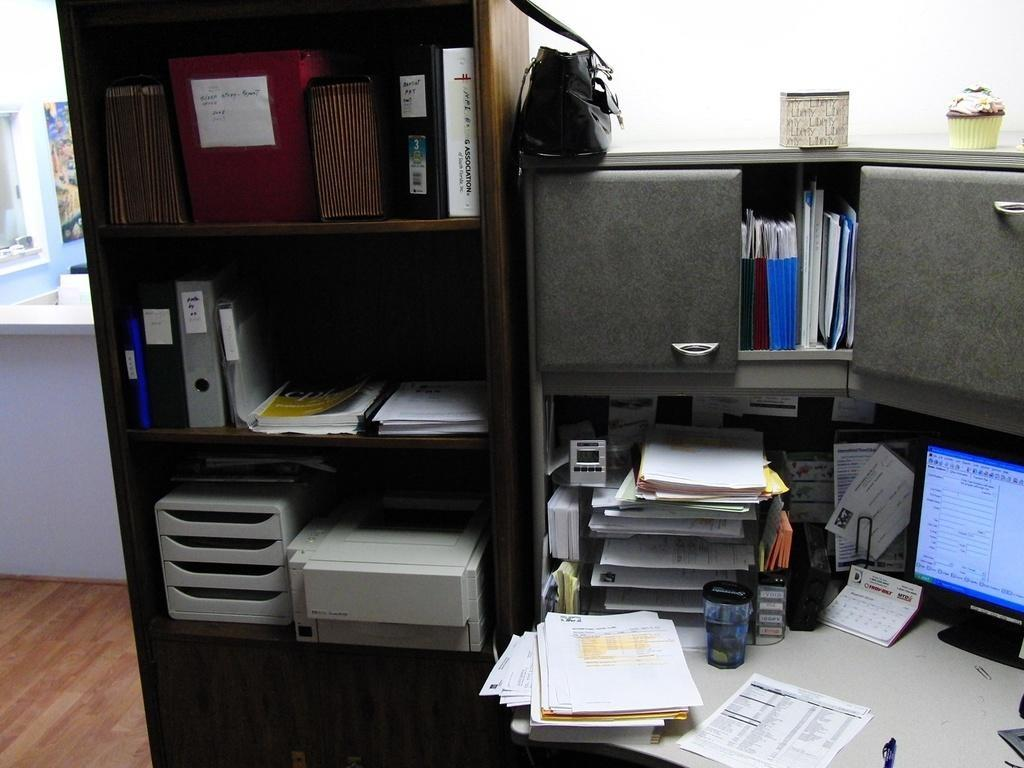AIO PC-Monitor-TV: (905, 433, 1023, 669)
Printer: (286, 494, 489, 651)
Rak: (57, 0, 515, 767)
